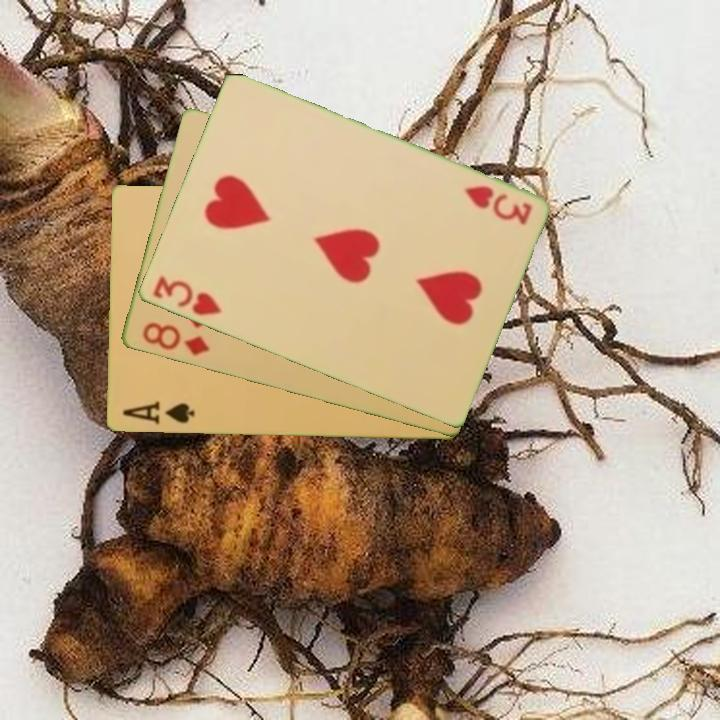3h: (148, 272, 224, 319), (459, 182, 535, 229)
8d: (138, 319, 212, 359)
As: (119, 399, 197, 428)
